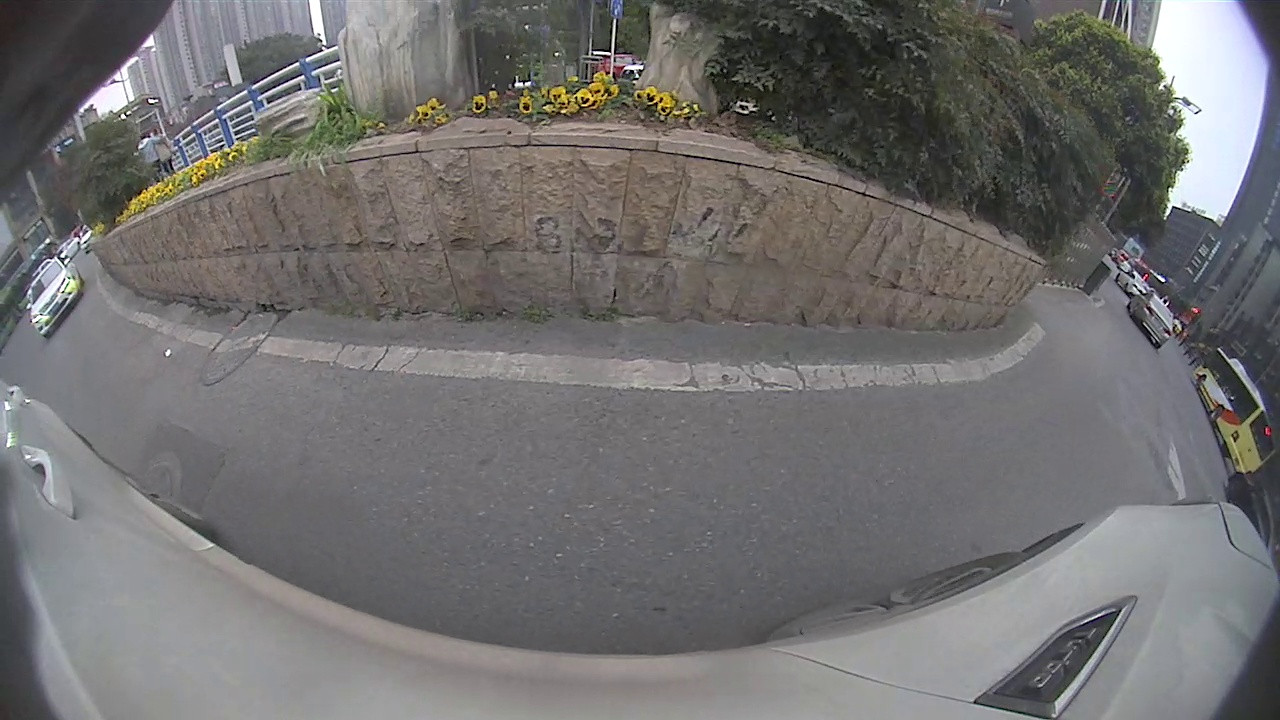bus: (1191, 345, 1277, 479)
car: (24, 256, 85, 340), (1129, 288, 1178, 350)
rear: (1207, 406, 1222, 429)
